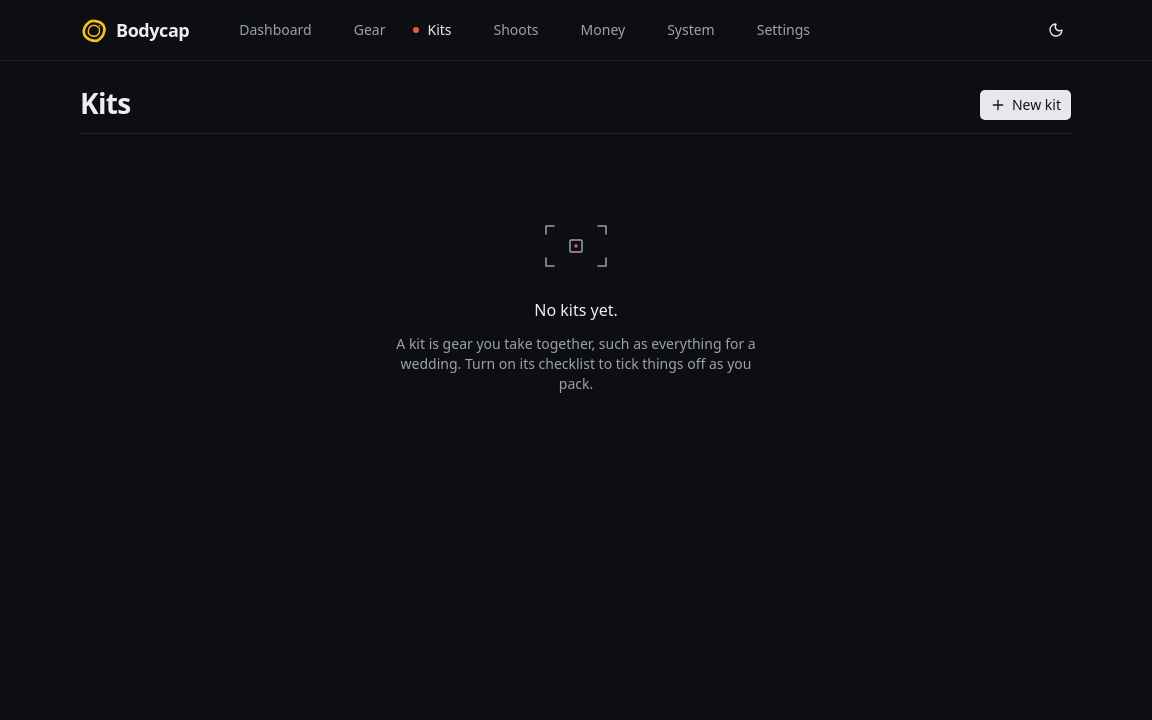
Test: the kits page › makes a kit, asking for a name first, then opens it
Click the button "New kit" at (1026, 105), box top-left (979, 89), bottom-right (1072, 121)
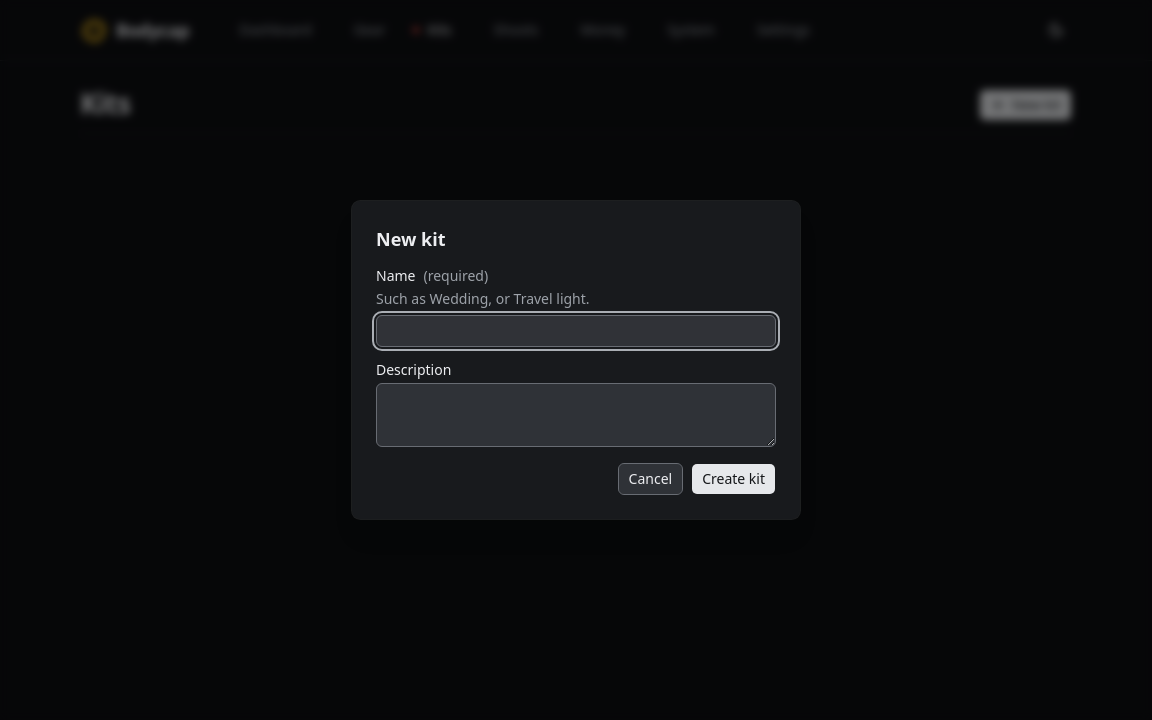
Click the button "Create kit" at (734, 479), box top-left (691, 463), bottom-right (776, 495)
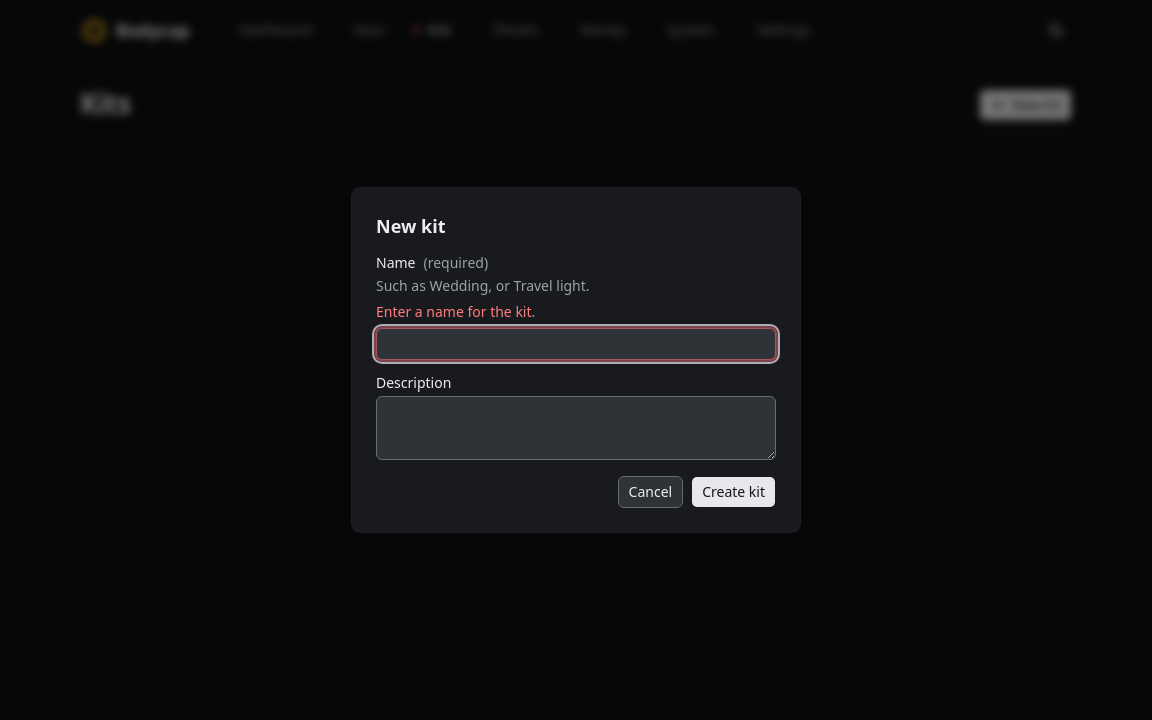
Type "Wedding" into the field labelled "Name" at (576, 344), box top-left (376, 328), bottom-right (776, 360)
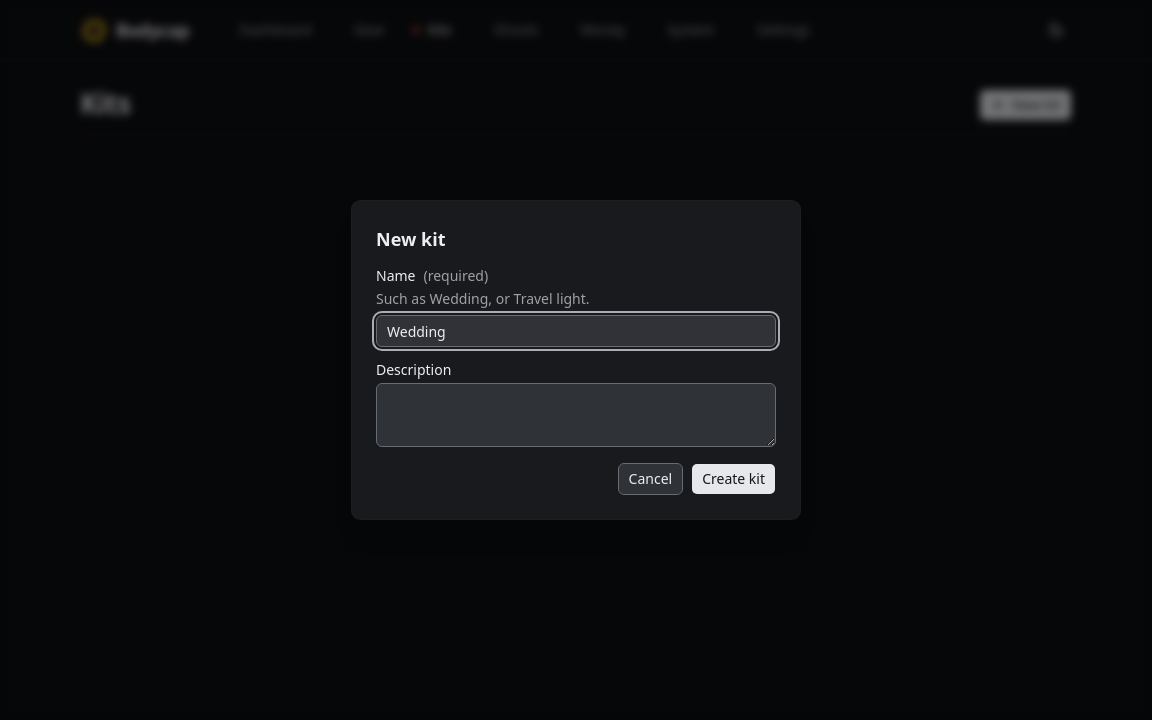
Type "Two bodies, one flash." into the text box labelled "Description" at (576, 415), box top-left (376, 383), bottom-right (776, 447)
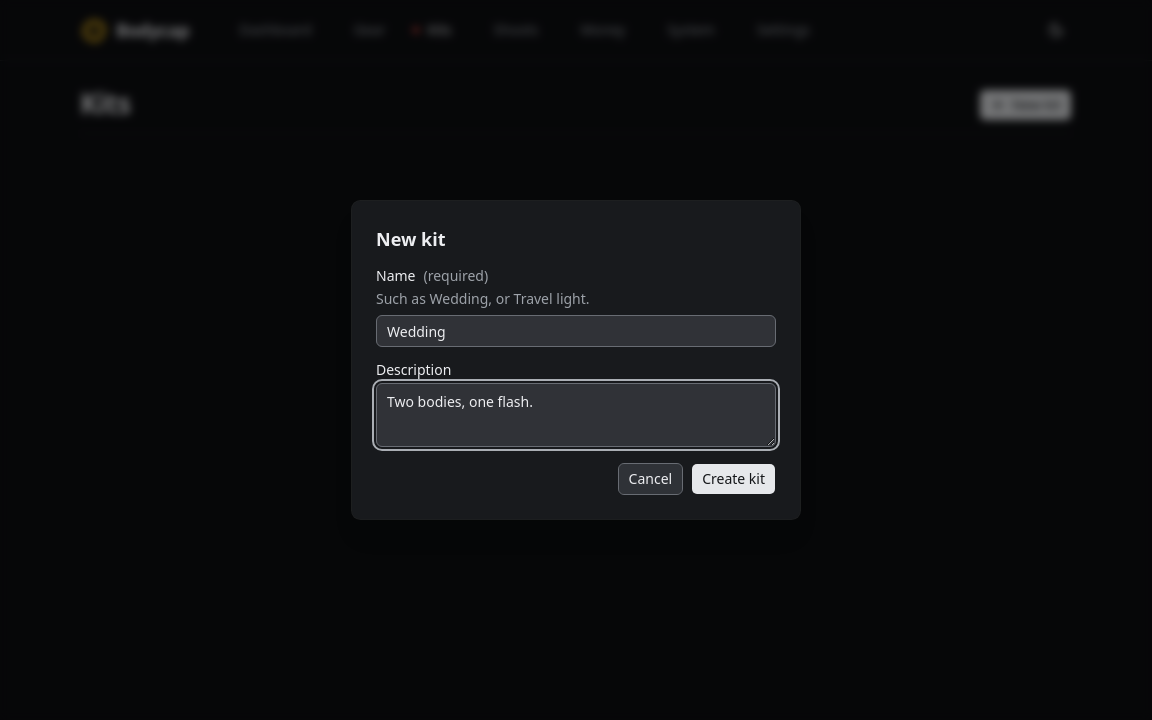
Click the button "Create kit" at (734, 479), box top-left (691, 463), bottom-right (776, 495)
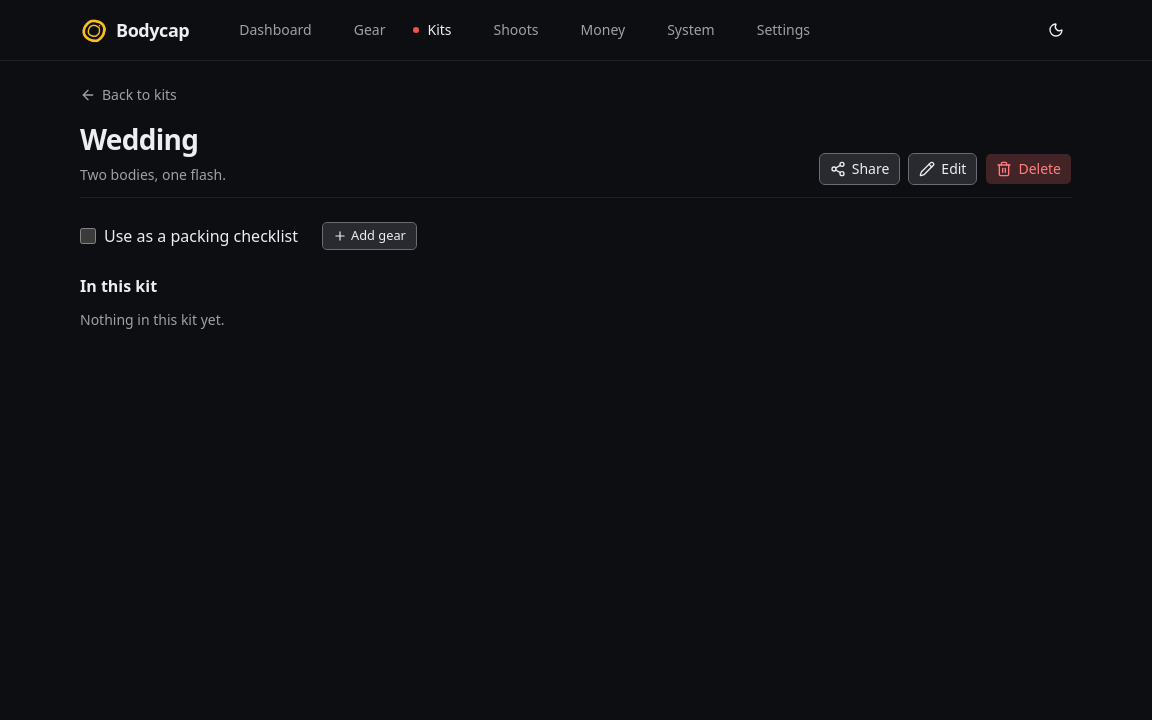
Expected: the heading "Wedding" is shown, top-left (80, 120), bottom-right (198, 158)
Expected: the text "Two bodies, one flash." is shown, top-left (80, 165), bottom-right (226, 185)
